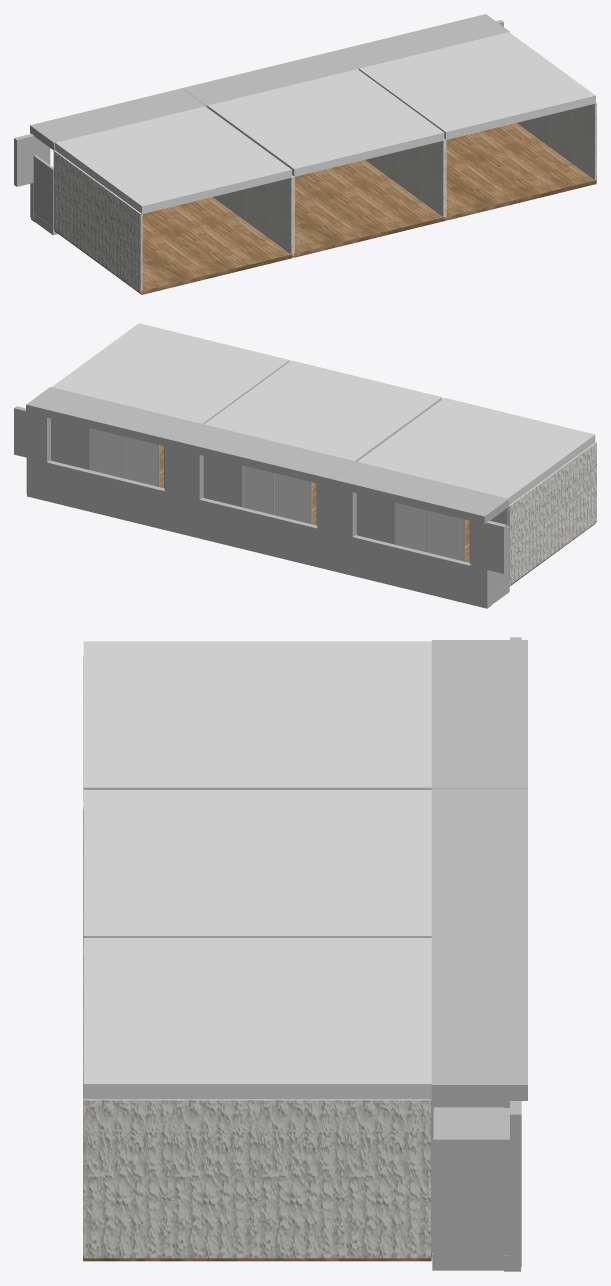
3 renders of one model, top to bottom at view 1: azimuth 30°, elevation 25°; view 2: azimuth 150°, elevation 25°; view 3: azimuth 270°, elevation 25°, orthographic. The views are drawn at different scales.
Parts seen in each view (by area): view 1: pCube5 (×3), pCube1 (×3), polySurface21 (×3), pasted__pCube5 (×3), pasted__pasted__pCube5, balcony_pasted__pCube3; view 2: pCube5 (×3), pCube4 (×3), pasted__pCube5 (×3), pasted__pasted__pCube5 (×3), polySurface21, polySurface25 (×3), polySurface1 (×3), pasted__polySurface1 (×3), balcony_pasted__pCube3; view 3: pCube5 (×3), polySurface21, pasted__pCube5 (×3), balcony_pasted__pCube3, pCube4, pCube1, pasted__pasted__pCube5.
Boxes of the visible parts, x1=… form: pCube5 (×3): x1=55, y1=32, x2=595, y2=213; pCube1 (×3): x1=55, y1=123, x2=596, y2=294; polySurface21 (×3): x1=53, y1=102, x2=596, y2=293; pasted__pCube5 (×3): x1=30, y1=14, x2=509, y2=150; pasted__pasted__pCube5: x1=14, y1=134, x2=50, y2=186; balcony_pasted__pCube3: x1=33, y1=155, x2=53, y2=226; pCube5 (×3): x1=52, y1=323, x2=595, y2=504; pCube4 (×3): x1=26, y1=457, x2=509, y2=608; pasted__pCube5 (×3): x1=26, y1=387, x2=508, y2=524; pasted__pasted__pCube5 (×3): x1=14, y1=406, x2=506, y2=573; polySurface21: x1=508, y1=442, x2=596, y2=585; polySurface25 (×3): x1=51, y1=418, x2=508, y2=544; polySurface1 (×3): x1=122, y1=436, x2=463, y2=560; pasted__polySurface1 (×3): x1=91, y1=428, x2=426, y2=551; balcony_pasted__pCube3: x1=355, y1=493, x2=509, y2=597; pCube5 (×3): x1=83, y1=641, x2=431, y2=1099; polySurface21: x1=83, y1=952, x2=430, y2=1258; pasted__pCube5 (×3): x1=431, y1=640, x2=527, y2=1100; balcony_pasted__pCube3: x1=433, y1=1101, x2=510, y2=1255; pCube4: x1=432, y1=1107, x2=521, y2=1271; pCube1: x1=83, y1=1106, x2=431, y2=1261; pasted__pasted__pCube5: x1=510, y1=1101, x2=521, y2=1206.
Bounding box in the file's own units: 1902 × 346 × 753.
